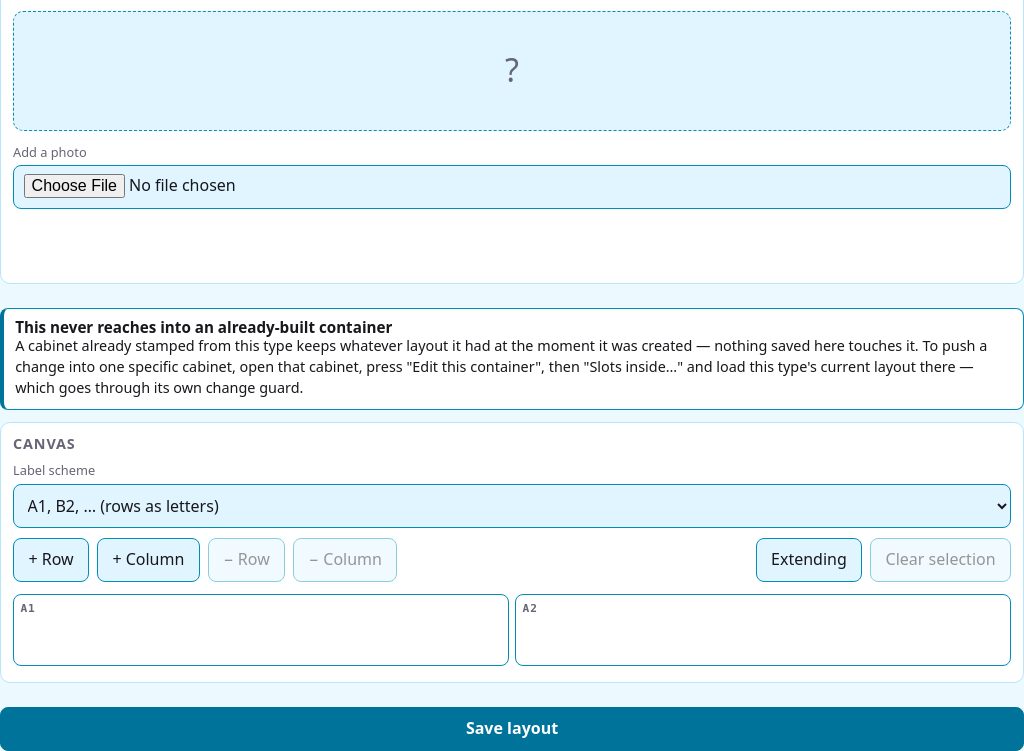
Scenario: the type canvas › a seed type clones on save and the screen follows the clone's id
This screenshot has width=1024, height=751.
(page scrolled)
Check: the text "A1" is shown, box [20,601,36,617]
Click the button "Save layout".
click(512, 729)  # box [0,707,1023,750]
(page scrolled)
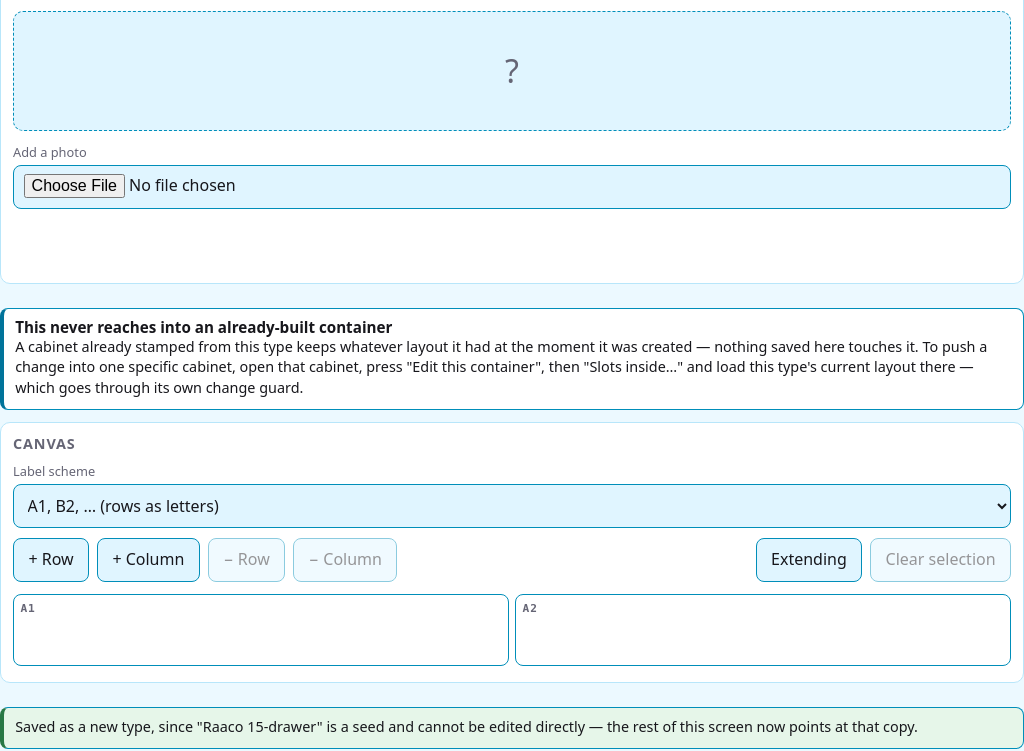
Check: the text "Saved as a new type" is shown, box [15,717,918,736]
